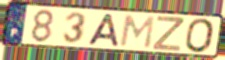3: (61, 11, 88, 45)
8: (29, 8, 56, 44)
A: (86, 12, 121, 48)
M: (118, 14, 157, 50)
O: (184, 17, 216, 55)
Z: (151, 15, 186, 53)
